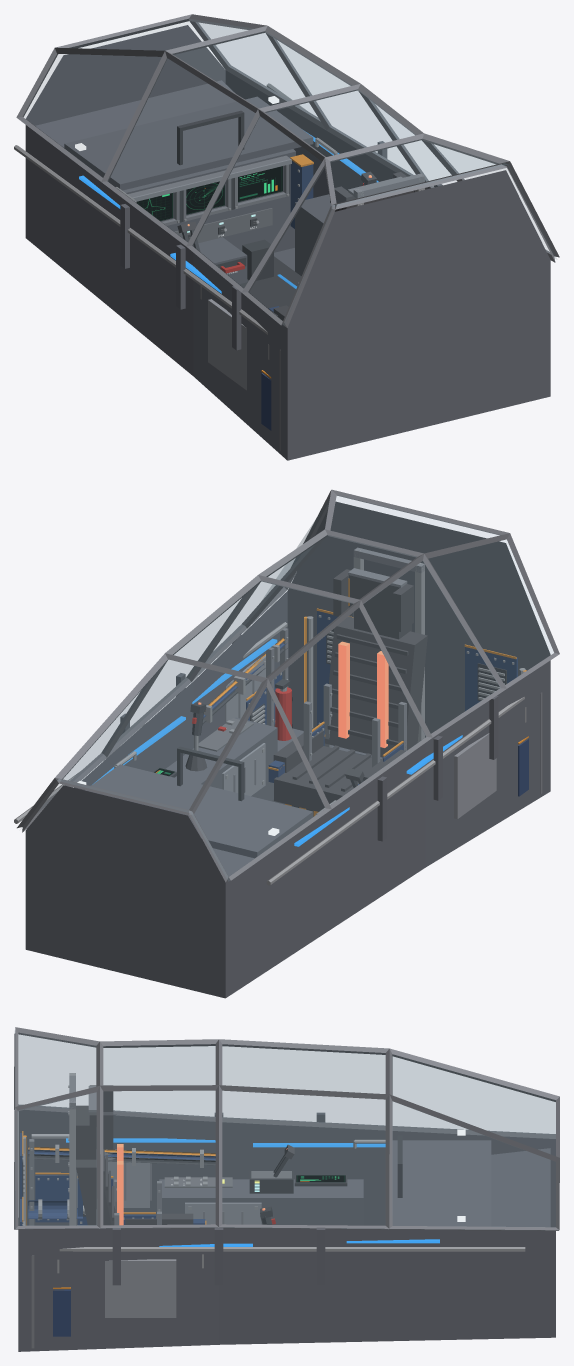
File: cockpit.glb
3 views of the same model, one above another, from view 1: azimuth 30°, elevation 25°; view 2: azimuth 150°, elevation 25°; view 3: azimuth 270°, elevation 25° (orthographic). The views are drawn at different scales.
Visible parts, largest first — view 1: Cockpit_interieur, Cockpit_verriere, Cockpit_cadre, Cockpit_details, Cockpit_details_v25, Cockpit_habillage, Ecran_droit, Pedale_droite_piece, Ecran_centre, Ecran_gauche; view 2: Cockpit_interieur, Cockpit_verriere, Cockpit_cadre, Cockpit_details_v25, Cockpit_details, Cockpit_habillage; view 3: Cockpit_interieur, Cockpit_verriere, Cockpit_cadre, Cockpit_details, Cockpit_details_v25, Cockpit_habillage.
Part boxes in pixels (x1,y1,x2,y2): Cockpit_interieur: [25, 25, 550, 460]; Cockpit_verriere: [23, 19, 556, 325]; Cockpit_cadre: [16, 14, 559, 327]; Cockpit_details: [14, 83, 442, 350]; Cockpit_details_v25: [116, 137, 424, 451]; Cockpit_habillage: [79, 131, 378, 390]; Ecran_droit: [238, 166, 282, 201]; Pedale_droite_piece: [242, 239, 273, 280]; Ecran_centre: [186, 181, 224, 214]; Ecran_gauche: [136, 193, 173, 220]; Cockpit_interieur: [25, 501, 550, 998]; Cockpit_verriere: [39, 495, 553, 880]; Cockpit_cadre: [17, 489, 559, 882]; Cockpit_details_v25: [114, 547, 542, 816]; Cockpit_details: [14, 622, 524, 885]; Cockpit_habillage: [92, 638, 496, 846]; Cockpit_interieur: [18, 1105, 555, 1351]; Cockpit_verriere: [18, 1033, 555, 1226]; Cockpit_cadre: [14, 1027, 559, 1230]; Cockpit_details: [31, 1112, 525, 1285]; Cockpit_details_v25: [20, 1073, 385, 1348]; Cockpit_habillage: [66, 1138, 439, 1317].
Size of the model in its own units: 1.73 by 1.5 by 3.21.
22 materials, 5 textured.
